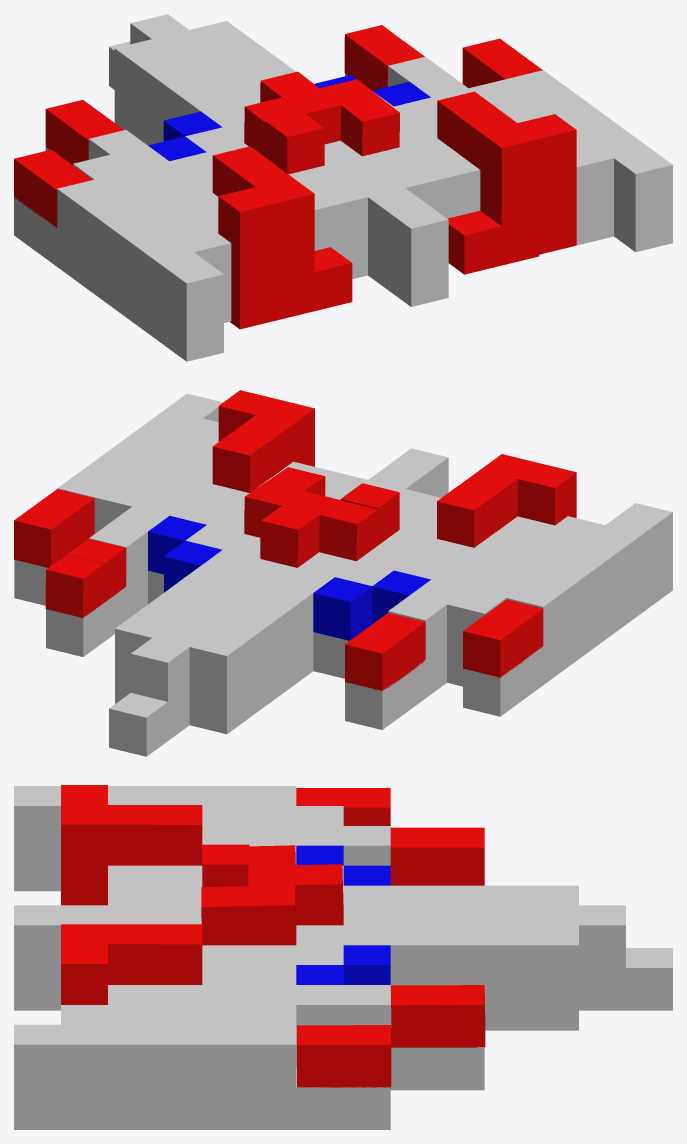
File: SpaceShip.fbx
The picture shows the model from 3 angles, top to bottom: view 1: azimuth 30°, elevation 25°; view 2: azimuth 150°, elevation 25°; view 3: azimuth 270°, elevation 25°; orthographic projection. The views are drawn at different scales.
Visible parts, largest first — view 1: Box178; view 2: Box178; view 3: Box178.
Part boxes in pixels (box(x1,y1,x2,y2)): Box178: box(14, 14, 672, 361); Box178: box(14, 390, 672, 756); Box178: box(14, 785, 672, 1129).
Size of the model in its own units: 130 by 30.1 by 140.
